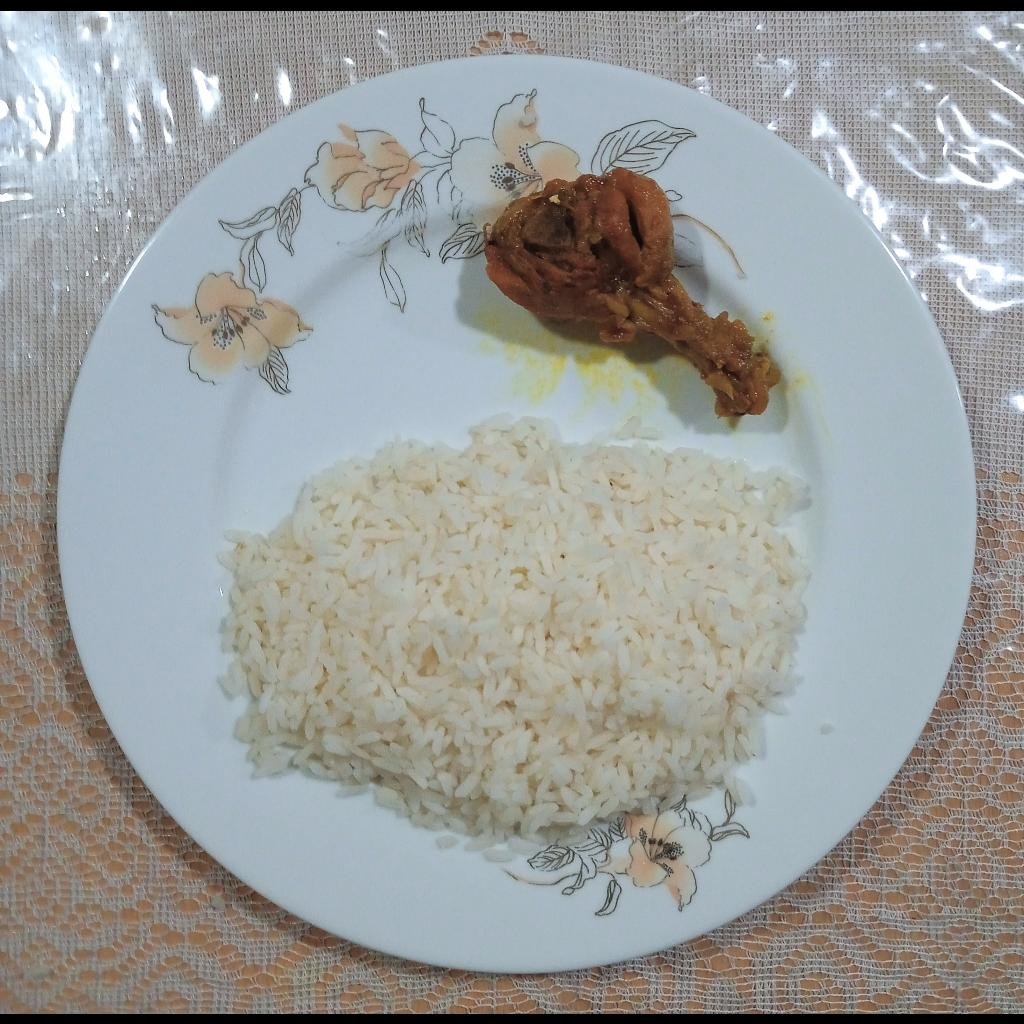chicken: (486, 166, 782, 417)
rice: (218, 412, 812, 861)
